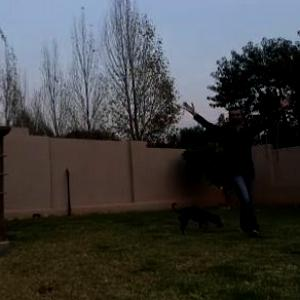takeoff: (172, 101, 286, 235)
